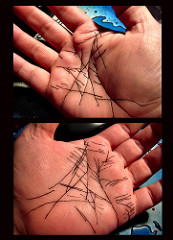palm: (14, 137, 135, 232), (54, 28, 154, 116)
